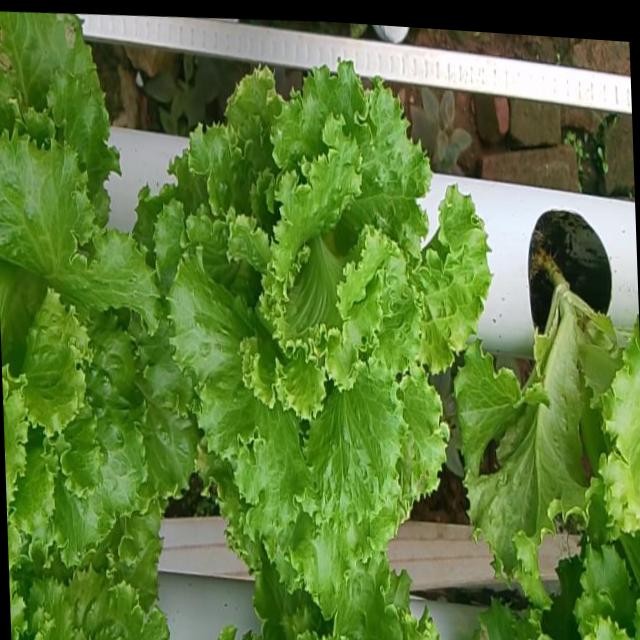Mature: (162, 42, 497, 581), (0, 108, 203, 553)
